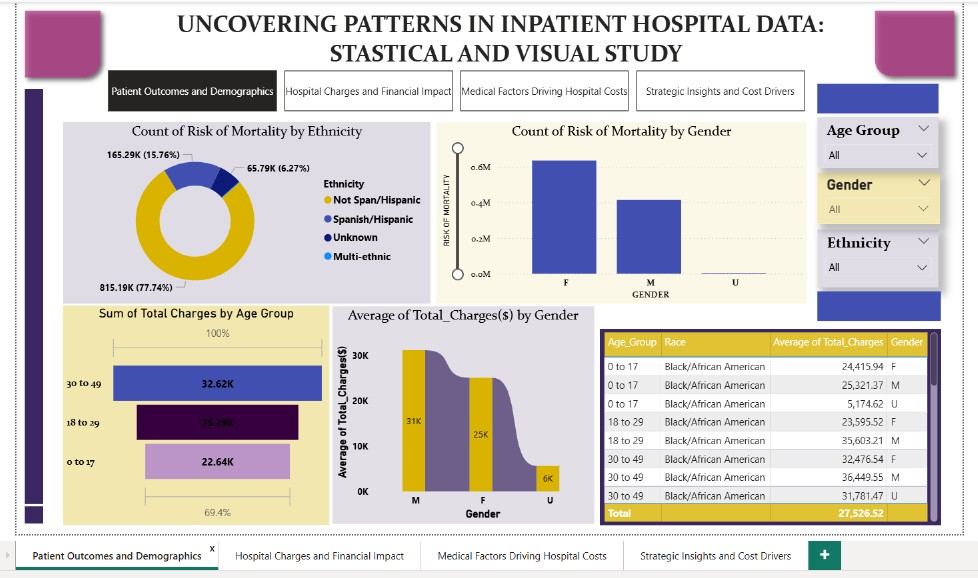

The page's visual inventory and layout, read from the dashboard file:
{"tool":"powerbi","page":{"name":"Patient Outcomes and Demographics","canvas":[1280,720],"ordinal":0},"visuals":[{"type":"shape","box":[0,0,125,113.3],"z":0},{"type":"textbox","box":[162.6,6.1,991.7,92.9],"z":1000},{"type":"slicer","fields":{"Values":["data_cleaned.Age_Group"]},"box":[1082.9,155.7,164.3,68.6],"z":2000},{"type":"slicer","title":"GENDER","fields":{"Values":["data_cleaned.Gender"]},"box":[1082.9,231.4,165.7,68.6],"z":3000},{"type":"slicer","fields":{"Values":["data_cleaned.Ethnicity"]},"box":[1082.9,307.1,164.3,78.6],"z":4000},{"type":"shape","box":[1082.9,391.4,167.1,40],"z":5000},{"type":"shape","box":[1082.9,110,164.3,40],"z":6000},{"type":"clusteredColumnChart","title":"Count of Risk of Mortality by Gender","fields":{"Category":["data_cleaned.Gender"],"Y":["CountNonNull(data_cleaned.APR_Risk_of_Mortality)"]},"box":[568.1,161.9,500.9,245.6],"z":7000},{"type":"donutChart","title":"Count of Risk of Mortality by Ethnicity","fields":{"Category":["data_cleaned.Ethnicity"],"Y":["CountNonNull(data_cleaned.APR_Risk_of_Mortality)"]},"box":[62.9,162.9,497.1,245.7],"z":8000},{"type":"funnel","title":"Sum of Total Charges by Age Group","fields":{"Category":["data_cleaned.Age_Group"],"Y":["Avg(data_cleaned.Total_Charges)"]},"box":[62.9,410,360,297.1],"z":9000},{"type":"ribbonChart","fields":{"Category":["data_cleaned.Gender"],"Y":["Avg(data_cleaned.Total_Charges)"]},"box":[427.1,411.4,354.3,294.3],"z":10000},{"type":"tableEx","fields":{"Values":["data_cleaned.Age_Group","data_cleaned.Race","Avg(data_cleaned.Total_Charges)","data_cleaned.Gender"]},"box":[788.6,441.4,461.4,265.7],"z":11000},{"type":"shape","box":[1150,0,130,111.7],"z":12000},{"type":"shape","box":[11.7,116.7,25,561.7],"z":13000},{"type":"shape","box":[11.7,681.7,25,23.3],"z":14000},{"type":"pageNavigator","box":[123.5,92.9,944,55],"z":15000}]}

Visuals, with their boxes on the page's 1280x720 design canvas (x1, y1, x2, y2). These are canvas units, not pixel positions in the 978x578 screenshot, which may show the page scaled, cropped or inside an application window:
shape: <bbox>0, 0, 125, 113</bbox>
textbox: <bbox>163, 6, 1154, 99</bbox>
slicer - data_cleaned.Age_Group: <bbox>1083, 156, 1247, 224</bbox>
"GENDER" slicer: <bbox>1083, 231, 1249, 300</bbox>
slicer - data_cleaned.Ethnicity: <bbox>1083, 307, 1247, 386</bbox>
shape: <bbox>1083, 391, 1250, 431</bbox>
shape: <bbox>1083, 110, 1247, 150</bbox>
"Count of Risk of Mortality by Gender" clusteredColumnChart: <bbox>568, 162, 1069, 408</bbox>
"Count of Risk of Mortality by Ethnicity" donutChart: <bbox>63, 163, 560, 409</bbox>
"Sum of Total Charges by Age Group" funnel: <bbox>63, 410, 423, 707</bbox>
ribbonChart - data_cleaned.Gender x Avg(data_cleaned.Total_Charges): <bbox>427, 411, 781, 706</bbox>
tableEx - data_cleaned.Age_Group x data_cleaned.Race: <bbox>789, 441, 1250, 707</bbox>
shape: <bbox>1150, 0, 1280, 112</bbox>
shape: <bbox>12, 117, 37, 678</bbox>
shape: <bbox>12, 682, 37, 705</bbox>
pageNavigator: <bbox>124, 93, 1068, 148</bbox>
